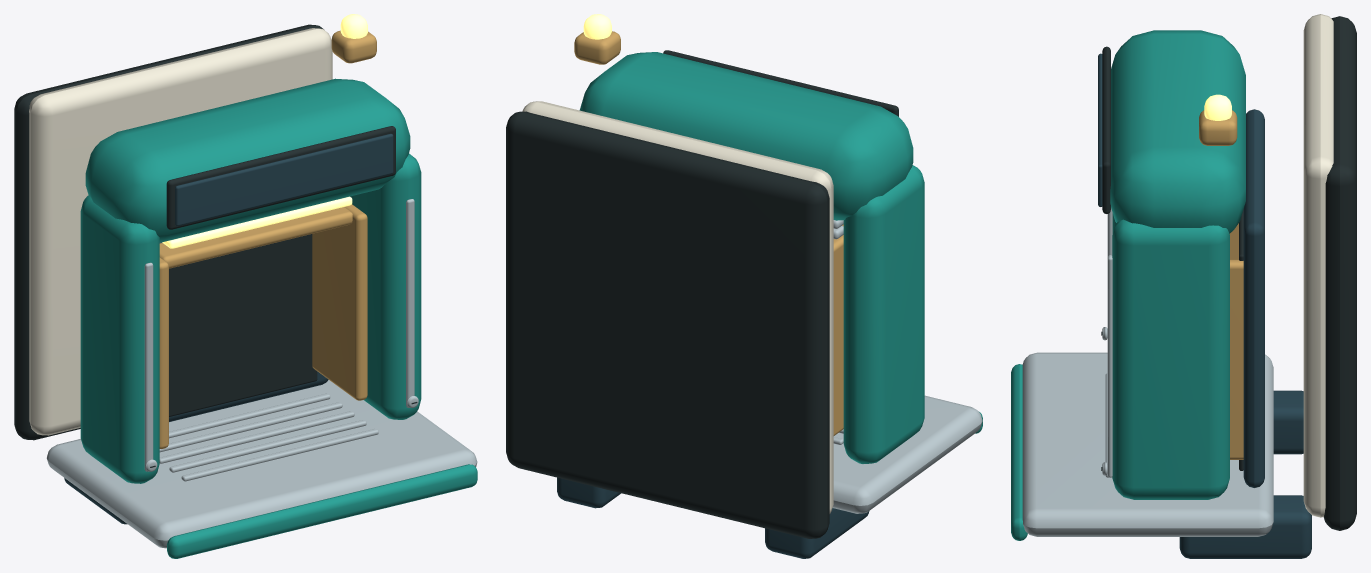
The model's file is hatch.glb.
3 views of the same model, side by side, from view 1: azimuth 30°, elevation 25°; view 2: azimuth 150°, elevation 25°; view 3: azimuth 270°, elevation 25° (orthographic). The views are drawn at different scales.
Parts seen in each view (by area): view 1: Fixed Laboratory lagoon enamel.002, Fixed Brushed steel.003, Fixed Laboratory ivory enamel.004, Fixed Recessed charcoal gasket.003, Fixed Satin champagne brass.004, Fixed Laboratory blue enamel.003, Fixed Warm appliance light.001, status_terminal; view 2: Fixed Recessed charcoal gasket.003, Fixed Laboratory lagoon enamel.002, Fixed Brushed steel.003, Fixed Laboratory ivory enamel.004, Fixed Satin champagne brass.004, Fixed Laboratory blue enamel.003, status_terminal; view 3: Fixed Laboratory lagoon enamel.002, Fixed Brushed steel.003, Fixed Recessed charcoal gasket.003, Fixed Laboratory blue enamel.003, Fixed Laboratory ivory enamel.004, Fixed Satin champagne brass.004, status_terminal.
Part boxes in pixels (bbox=[...]): Fixed Laboratory lagoon enamel.002: bbox=[80, 78, 477, 558]; Fixed Brushed steel.003: bbox=[46, 199, 477, 548]; Fixed Laboratory ivory enamel.004: bbox=[29, 28, 332, 435]; Fixed Recessed charcoal gasket.003: bbox=[14, 24, 417, 467]; Fixed Satin champagne brass.004: bbox=[159, 30, 376, 448]; Fixed Laboratory blue enamel.003: bbox=[64, 133, 393, 524]; Fixed Warm appliance light.001: bbox=[162, 196, 352, 248]; status_terminal: bbox=[340, 14, 367, 38]; Fixed Recessed charcoal gasket.003: bbox=[506, 50, 898, 538]; Fixed Laboratory lagoon enamel.002: bbox=[579, 52, 982, 463]; Fixed Brushed steel.003: bbox=[832, 395, 982, 513]; Fixed Laboratory ivory enamel.004: bbox=[522, 101, 833, 513]; Fixed Satin champagne brass.004: bbox=[574, 31, 843, 435]; Fixed Laboratory blue enamel.003: bbox=[557, 477, 869, 558]; status_terminal: bbox=[583, 14, 611, 39]; Fixed Laboratory lagoon enamel.002: bbox=[1011, 30, 1245, 540]; Fixed Brushed steel.003: bbox=[1022, 208, 1273, 536]; Fixed Recessed charcoal gasket.003: bbox=[1101, 16, 1356, 530]; Fixed Laboratory blue enamel.003: bbox=[1098, 53, 1311, 558]; Fixed Laboratory ivory enamel.004: bbox=[1303, 14, 1333, 517]; Fixed Satin champagne brass.004: bbox=[1199, 110, 1243, 459]; status_terminal: bbox=[1204, 94, 1231, 120].
Bounding box in the file's own units: 1.85 × 2.41 × 1.62.
